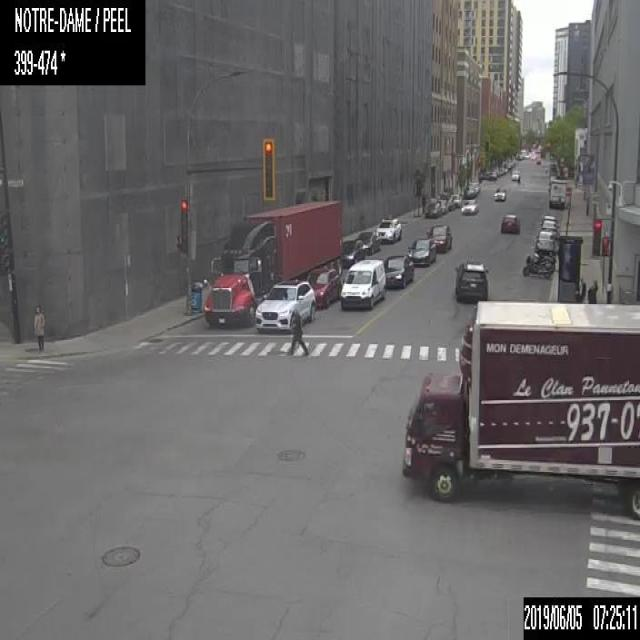pedestrian: (288, 308, 308, 353), (32, 298, 42, 351), (587, 278, 597, 303), (579, 276, 586, 300), (516, 174, 520, 182)
vehicle: (402, 300, 639, 518), (204, 199, 341, 327), (255, 279, 315, 329), (341, 258, 384, 309), (453, 260, 489, 302), (306, 268, 340, 307), (384, 254, 414, 288), (407, 237, 435, 265), (426, 223, 452, 251), (341, 239, 366, 265), (522, 255, 550, 278), (376, 216, 401, 241), (548, 177, 568, 208), (354, 230, 379, 250), (533, 250, 555, 272), (534, 230, 555, 252), (501, 212, 519, 234), (539, 220, 558, 237), (460, 198, 478, 214), (425, 198, 440, 215), (439, 193, 454, 209), (463, 184, 475, 197), (494, 186, 505, 200), (437, 198, 447, 212), (451, 194, 461, 206), (469, 180, 479, 192), (510, 168, 519, 181), (486, 170, 496, 180), (541, 214, 556, 220), (536, 158, 540, 164)
